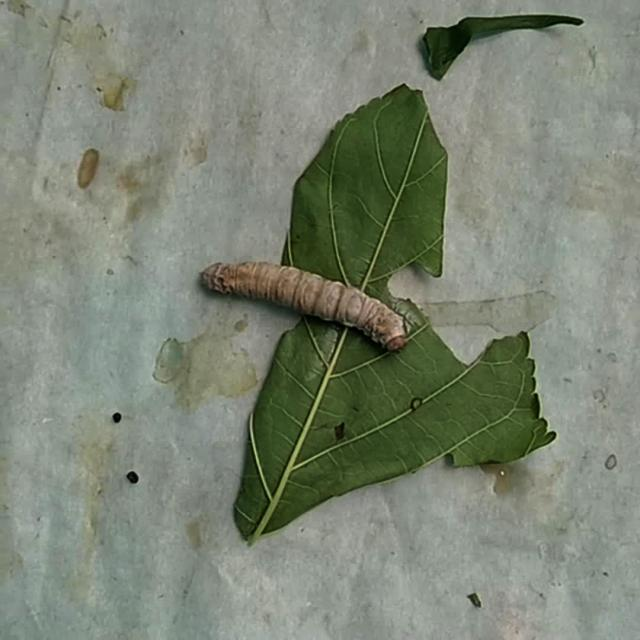Grasserie: (186, 206, 440, 372)
